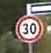limite 30: (13, 13, 44, 43)
